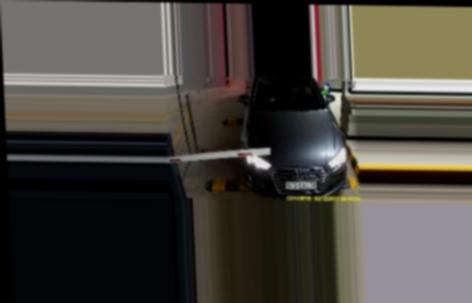License_Plate: (286, 180, 319, 192)
